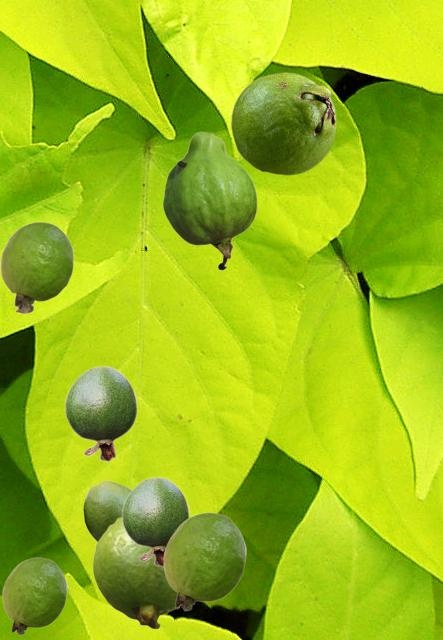guava: (162, 131, 256, 269), (231, 72, 335, 174), (92, 517, 179, 628), (163, 512, 245, 610), (64, 365, 137, 461), (0, 221, 73, 313), (121, 476, 189, 566), (2, 557, 66, 634), (83, 480, 130, 541)
